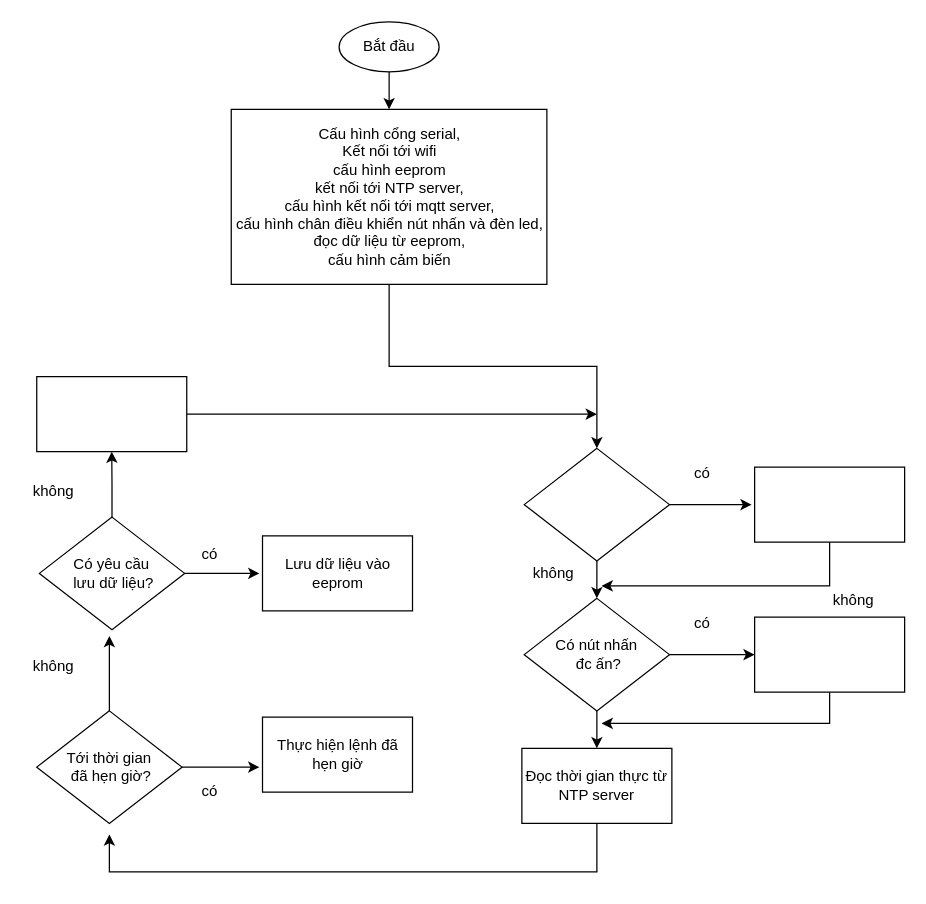
This 926x904 diagram has some shape labels left out. The centre of each missing label's shape, as x and y in pixels:
"Có dữ liệu từ mqtt?" belongs at [596,504].
"Xử lý dữ liệu" belongs at [829,504].
"Xử lý nút nhấn được ấn" belongs at [829,654].
"Đọc cảm biến" belongs at [111,413].
